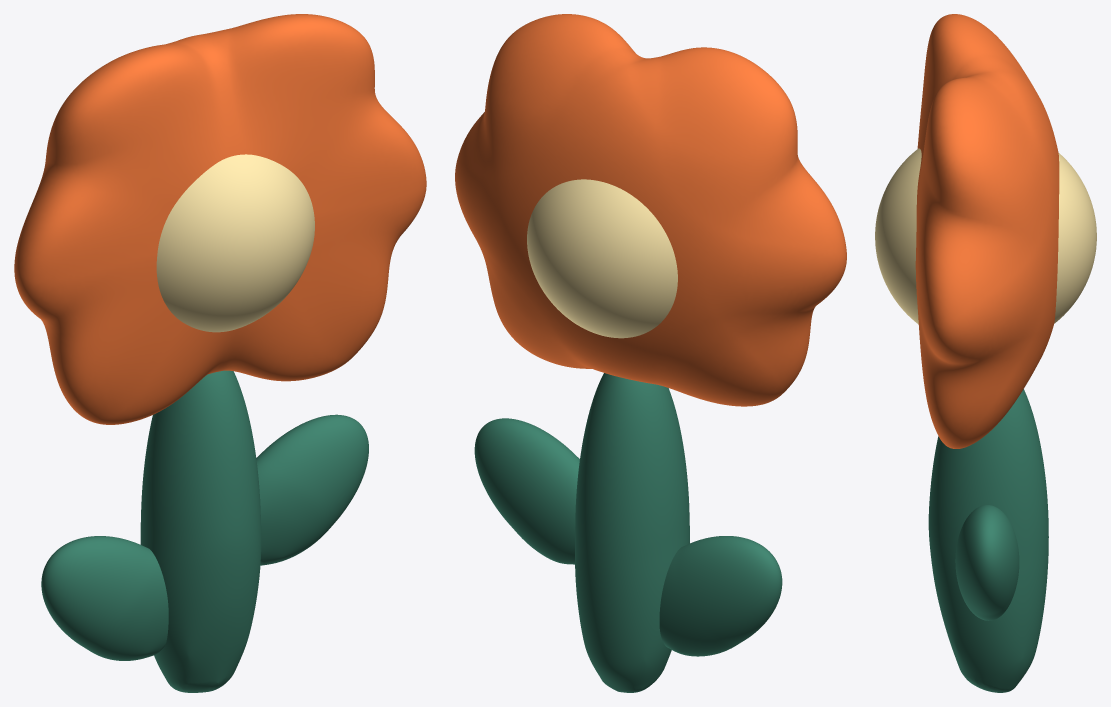
Rendered from cute_cartoon_flower.glb.
3 views of the same model, side by side, from view 1: azimuth 30°, elevation 25°; view 2: azimuth 150°, elevation 25°; view 3: azimuth 270°, elevation 25° (orthographic). The views are drawn at different scales.
Visible parts, largest first — view 1: Object_2, Object_4, Object_3; view 2: Object_2, Object_4, Object_3; view 3: Object_2, Object_4, Object_3.
Part boxes in pixels (x1,y1,x2,y2): Object_2: (14,14,426,424); Object_4: (41,370,368,692); Object_3: (156,154,314,332); Object_2: (455,14,846,406); Object_4: (474,373,782,692); Object_3: (527,179,677,338); Object_2: (915,14,1059,448); Object_4: (928,389,1048,692); Object_3: (875,148,1096,324).
Size of the model in its own units: 1.1 by 1.75 by 0.5558.
